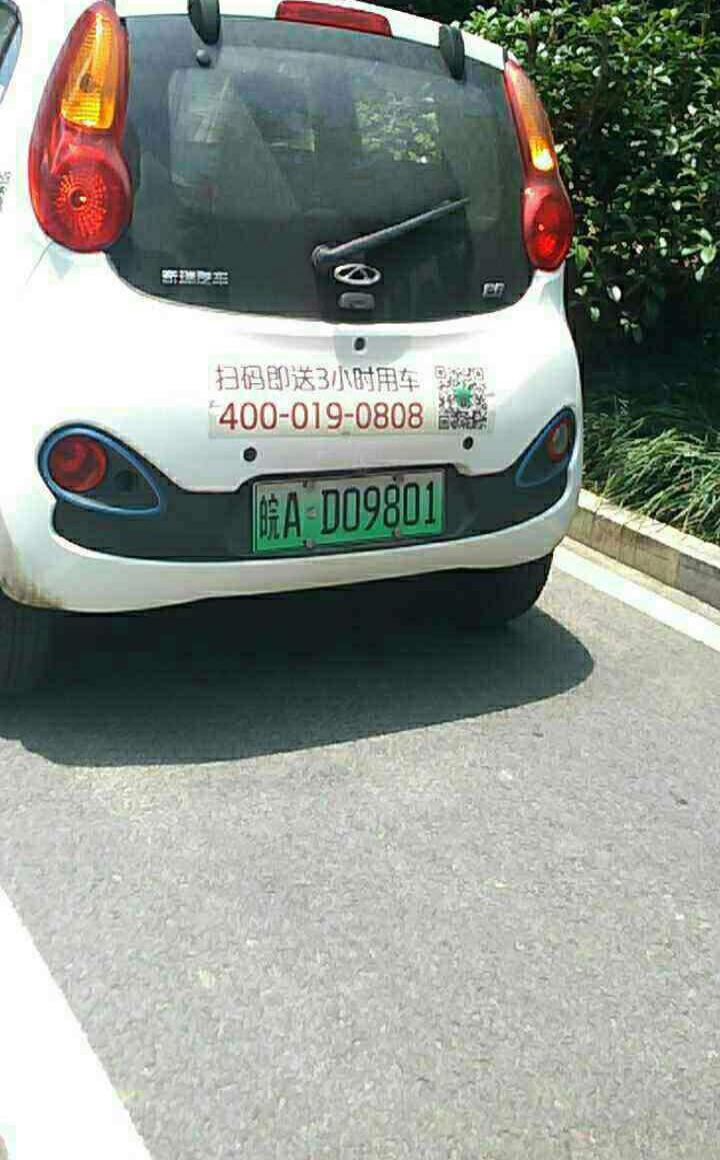car_id: (249, 471, 449, 555)
